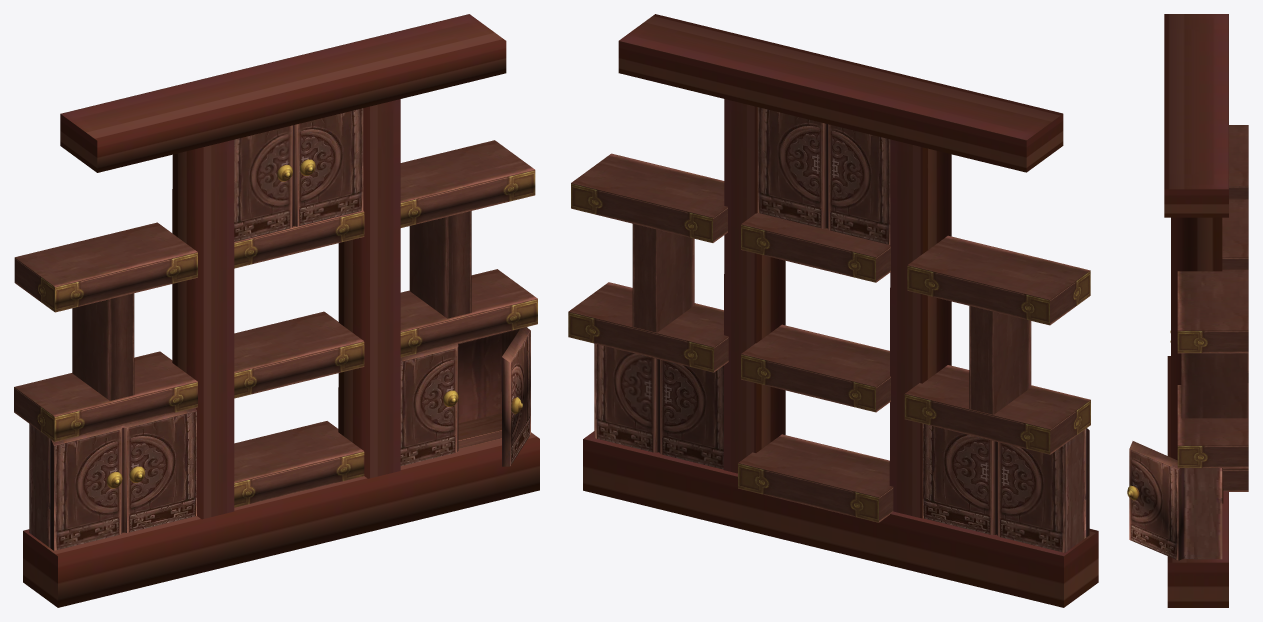
3 views of the same model, side by side, from view 1: azimuth 30°, elevation 25°; view 2: azimuth 150°, elevation 25°; view 3: azimuth 270°, elevation 25° (orthographic). The views are drawn at different scales.
Size of the model in its own units: 7.89 by 7.14 by 1.95.
Materials: 3 (3 with a texture image).
